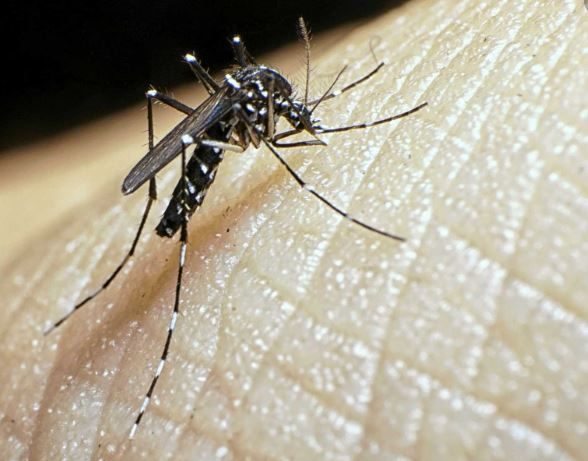dengue_mosquito: (75, 18, 372, 377)
